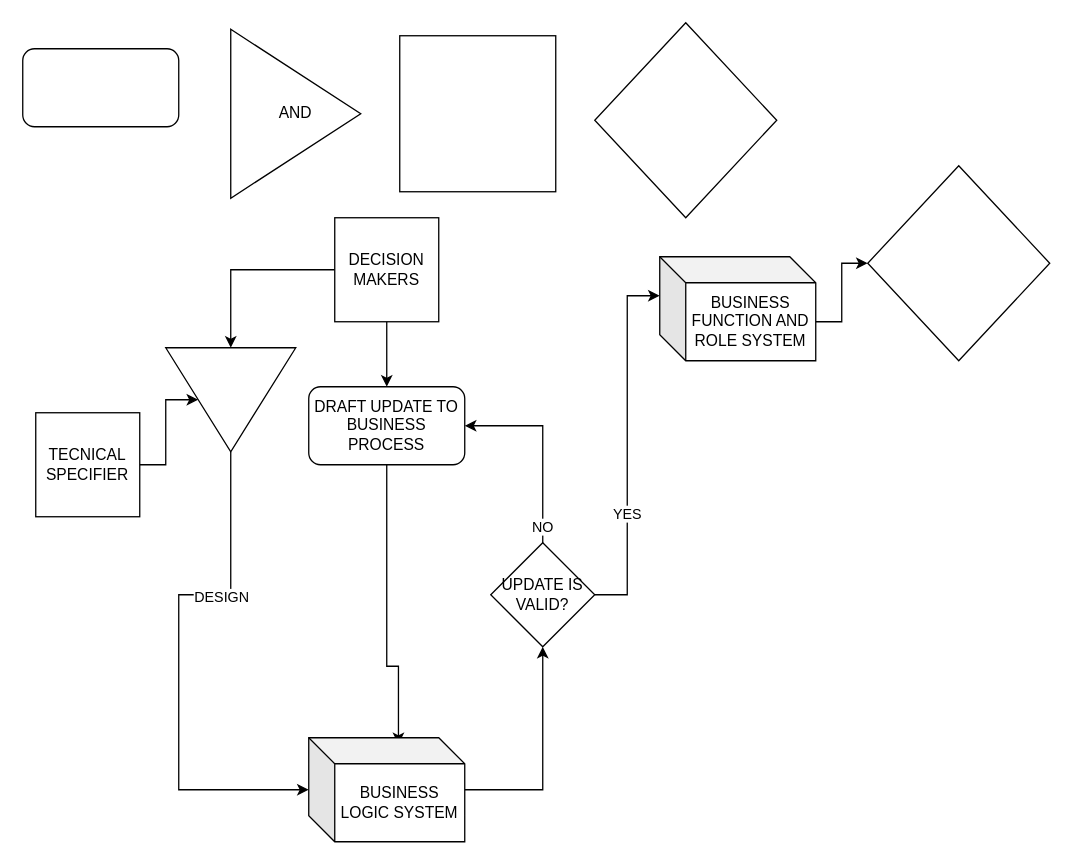
Some shapes in this 1073 by 864 pixel diagram are drawn without their labels. Here are the shapes that lost their labels. From the top down, the centre of each, then its label:
At pixel 100 87: "ACTION".
At pixel 477 113: "STAKEHOLDER".
At pixel 685 119: "REQUIREMENT".
At pixel 958 262: "PUBLISH UPDATE TO BUSINESS PROCESS".
